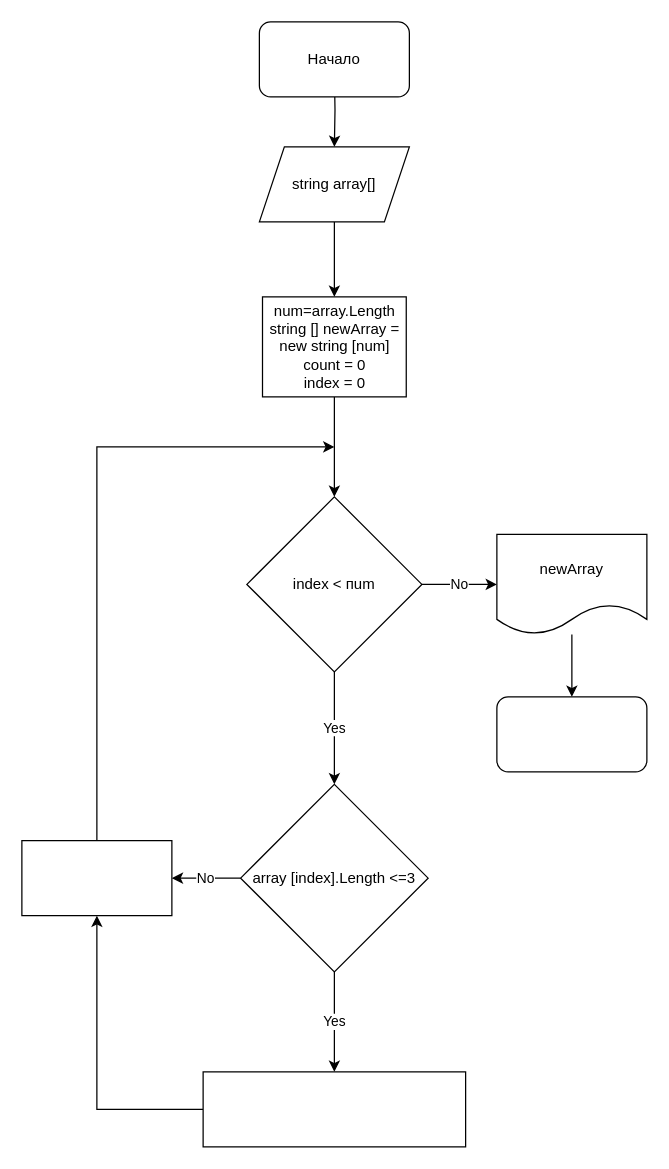
Image size: 669x1169. Some labels were removed from this diagram. Here are the shapes that lost their labels. From the top down, the centre of each, then its label:
At point 571,734: "Конец".
At point 96,877: "index++".
At point 334,1109: "newArray[count] = array[index] count ++".
